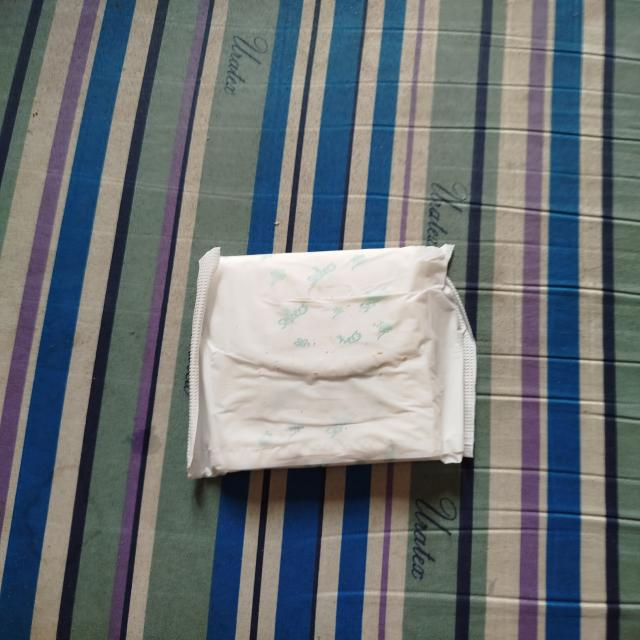residual: (164, 227, 508, 494)
